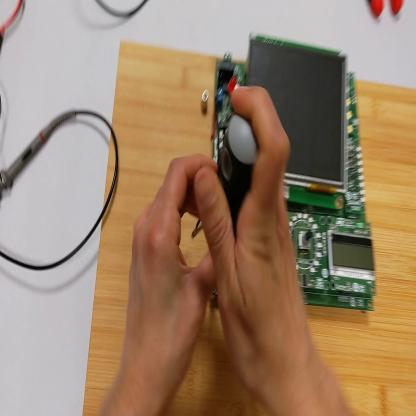hand: (191, 79, 315, 395), (122, 156, 220, 403)
low voltage board: (213, 39, 375, 313)
oscilloscope probe tip: (2, 108, 76, 197)
pliers: (368, 1, 405, 22)
screwdriver-: (216, 119, 265, 231)
working area: (83, 41, 416, 415)
